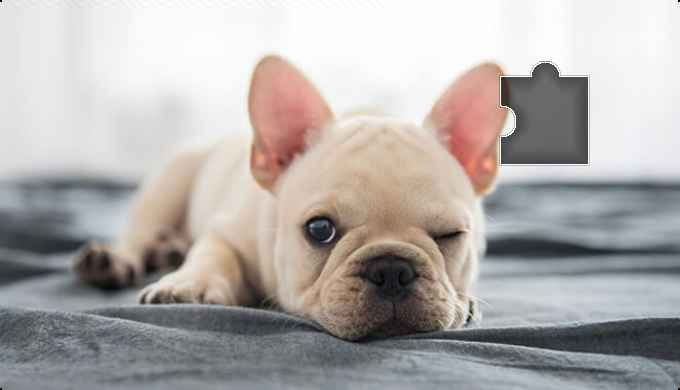gap: (502, 64, 590, 163)
